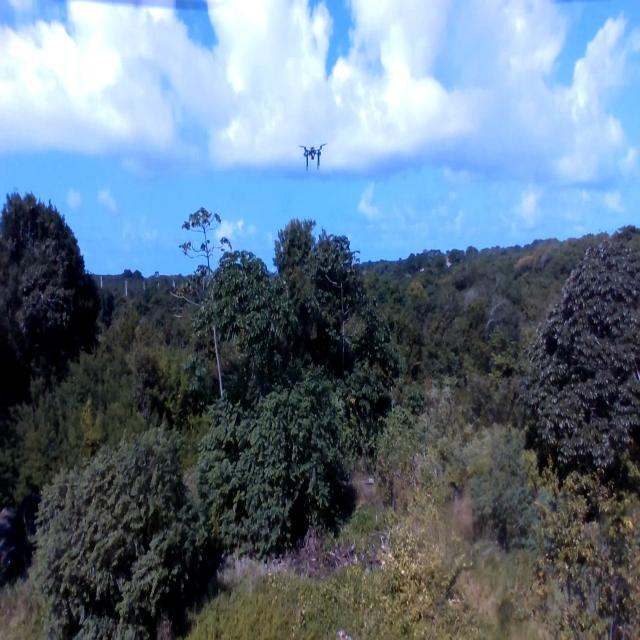-uav-: (295, 134, 331, 178)
